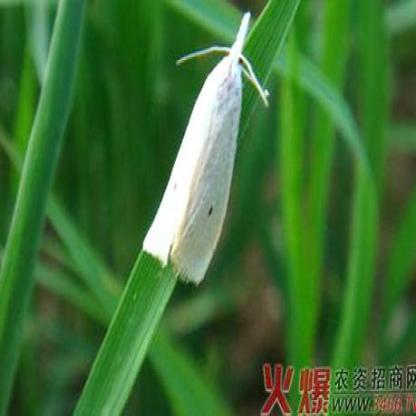stem-borer: (140, 11, 270, 289)
